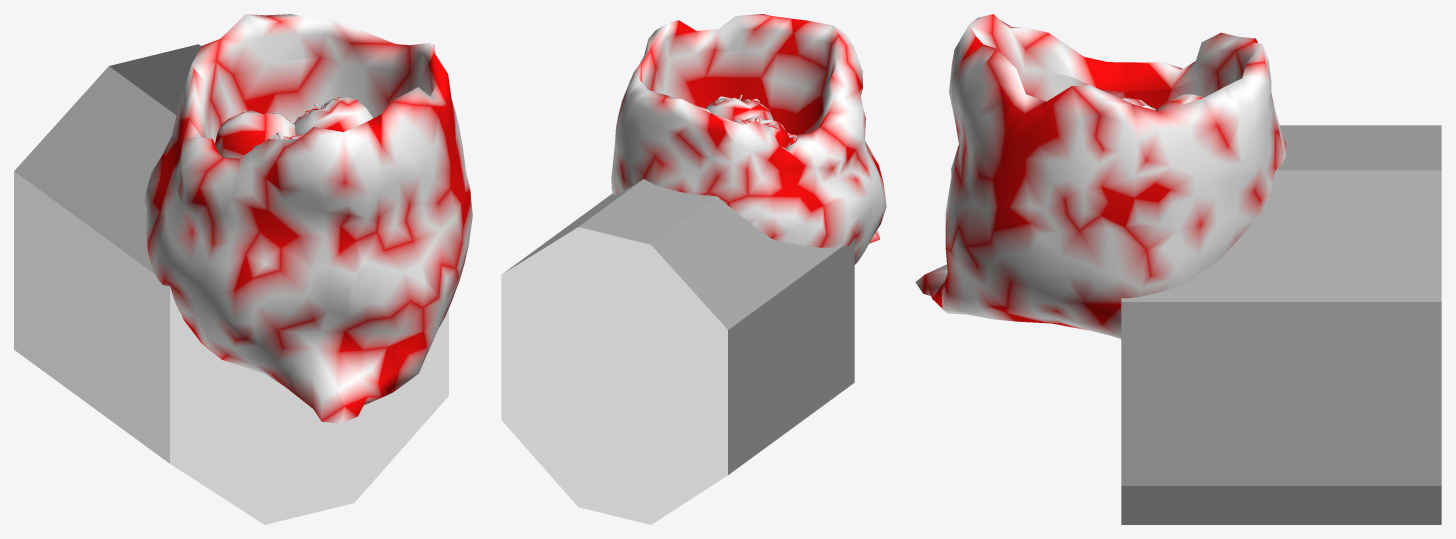
File: SM_TomatoSack01.fbx
The picture shows the model from 3 angles, left to right: view 1: azimuth 30°, elevation 25°; view 2: azimuth 150°, elevation 25°; view 3: azimuth 270°, elevation 25°; orthographic projection. The views are drawn at different scales.
Parts seen in each view (by area): view 1: SM_TomatoSack01_LOD0, SM_TomatoSack01_ConvexHulls; view 2: SM_TomatoSack01_ConvexHulls, SM_TomatoSack01_LOD0; view 3: SM_TomatoSack01_ConvexHulls, SM_TomatoSack01_LOD0.
Part boxes in pixels (x1=…): SM_TomatoSack01_LOD0: x1=144, y1=14, x2=472, y2=423; SM_TomatoSack01_ConvexHulls: x1=14, y1=44, x2=448, y2=524; SM_TomatoSack01_ConvexHulls: x1=501, y1=179, x2=854, y2=524; SM_TomatoSack01_LOD0: x1=611, y1=14, x2=886, y2=264; SM_TomatoSack01_ConvexHulls: x1=1121, y1=125, x2=1441, y2=524; SM_TomatoSack01_LOD0: x1=915, y1=14, x2=1286, y2=338.
Size of the model in its own units: 30.5 by 47.88 by 47.16.
